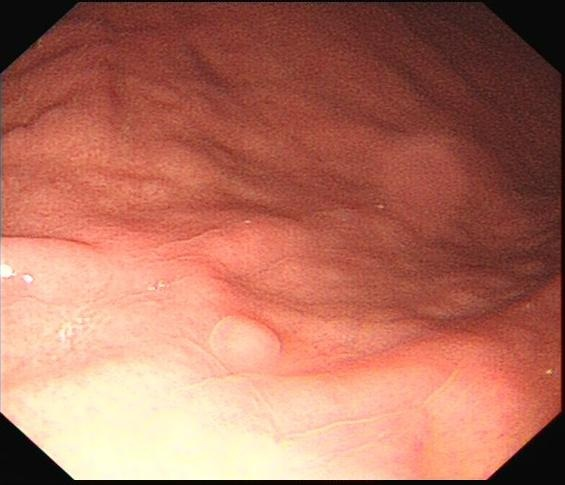Polyp: (202, 306, 296, 380)
